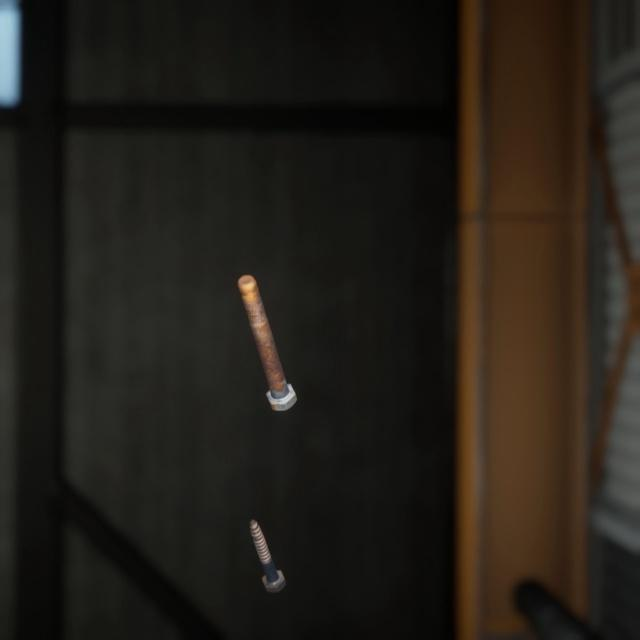bolt: (233, 251, 301, 397), (245, 492, 290, 574)
